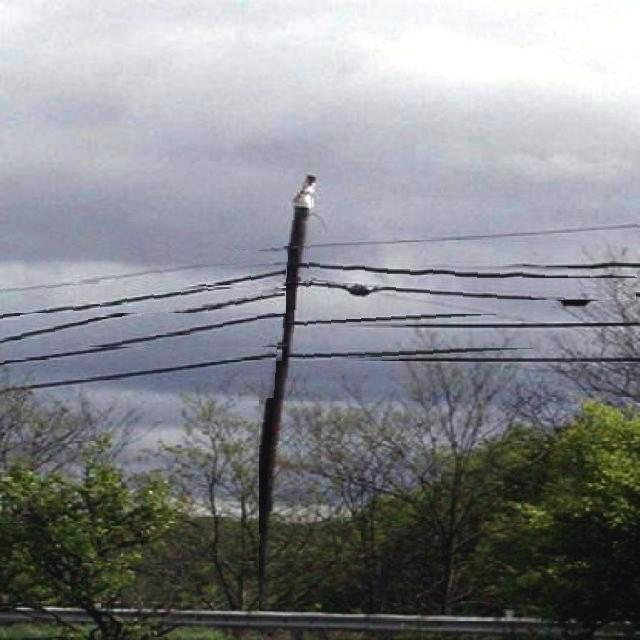pole: (259, 187, 313, 611)
wire: (6, 287, 285, 345), (5, 313, 287, 369), (6, 265, 286, 321), (5, 348, 277, 398), (5, 250, 288, 294), (311, 216, 637, 249), (309, 258, 637, 278), (311, 280, 636, 300), (308, 314, 600, 328), (305, 348, 634, 359)
